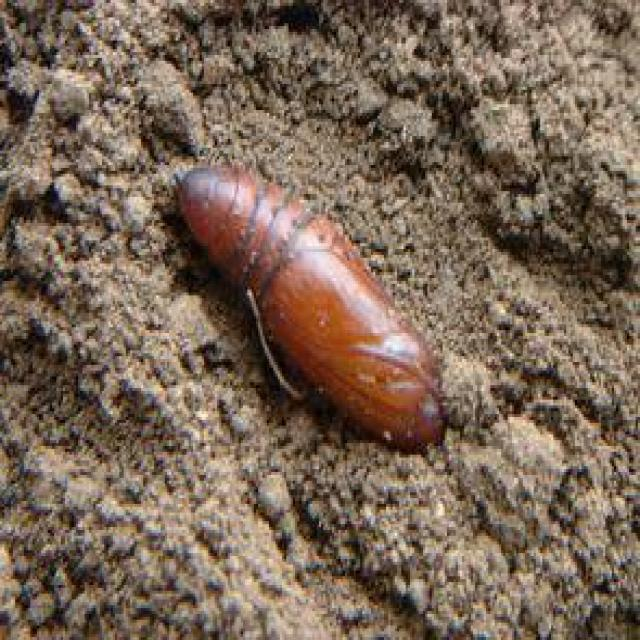armyworm: (154, 147, 462, 458)
